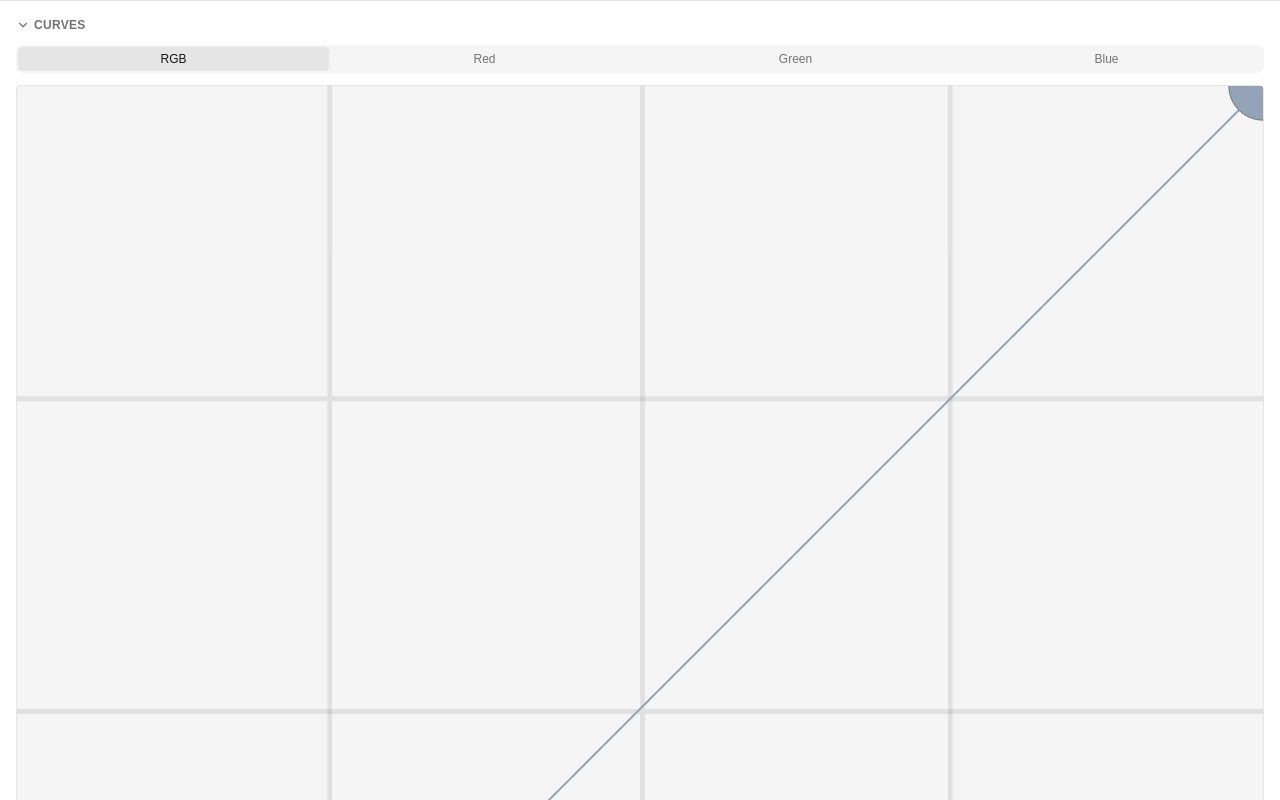
Test case: CurvesPanel (PHOTO-007 curves) › shows a reset only once the channel on screen has been bent
Click the button "Green": (796,59) [640,47,951,71]
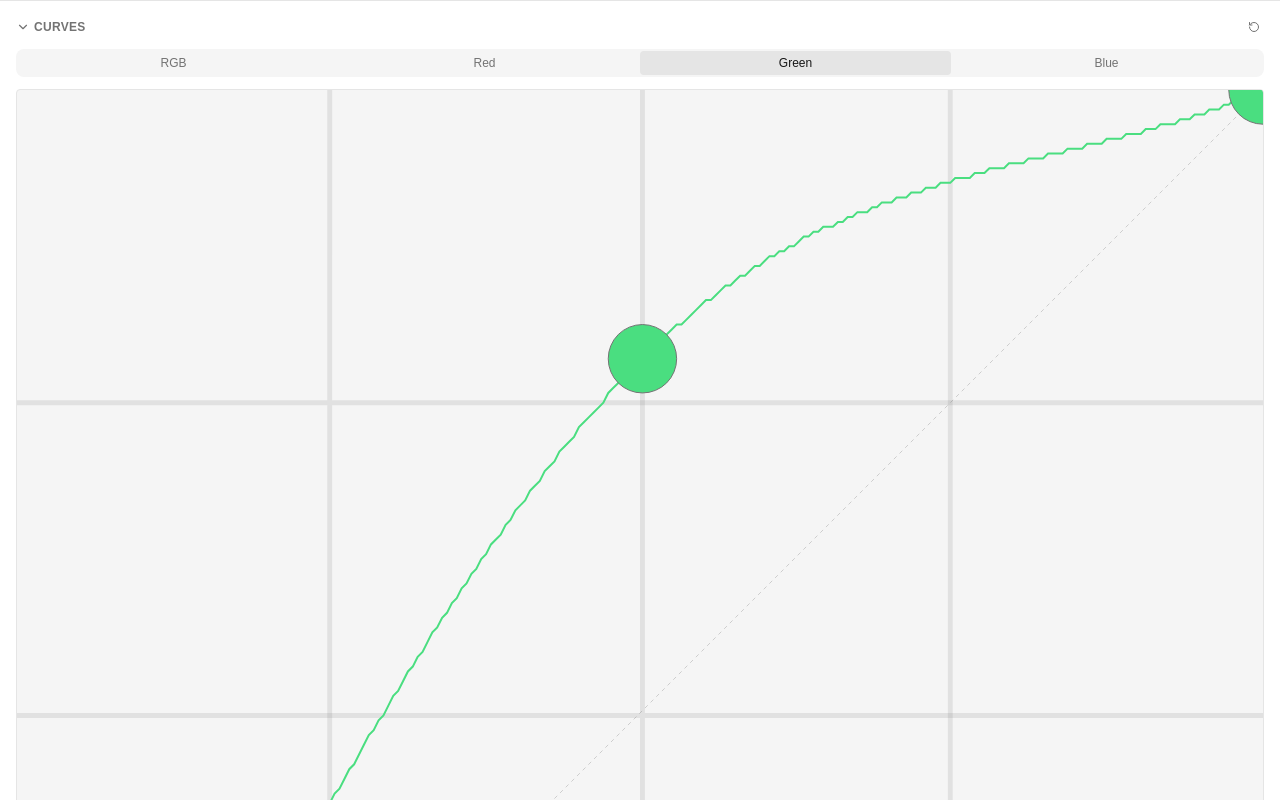
expect the button titled "Reset Green curve" is shown: met, box [1244,17,1264,37]
